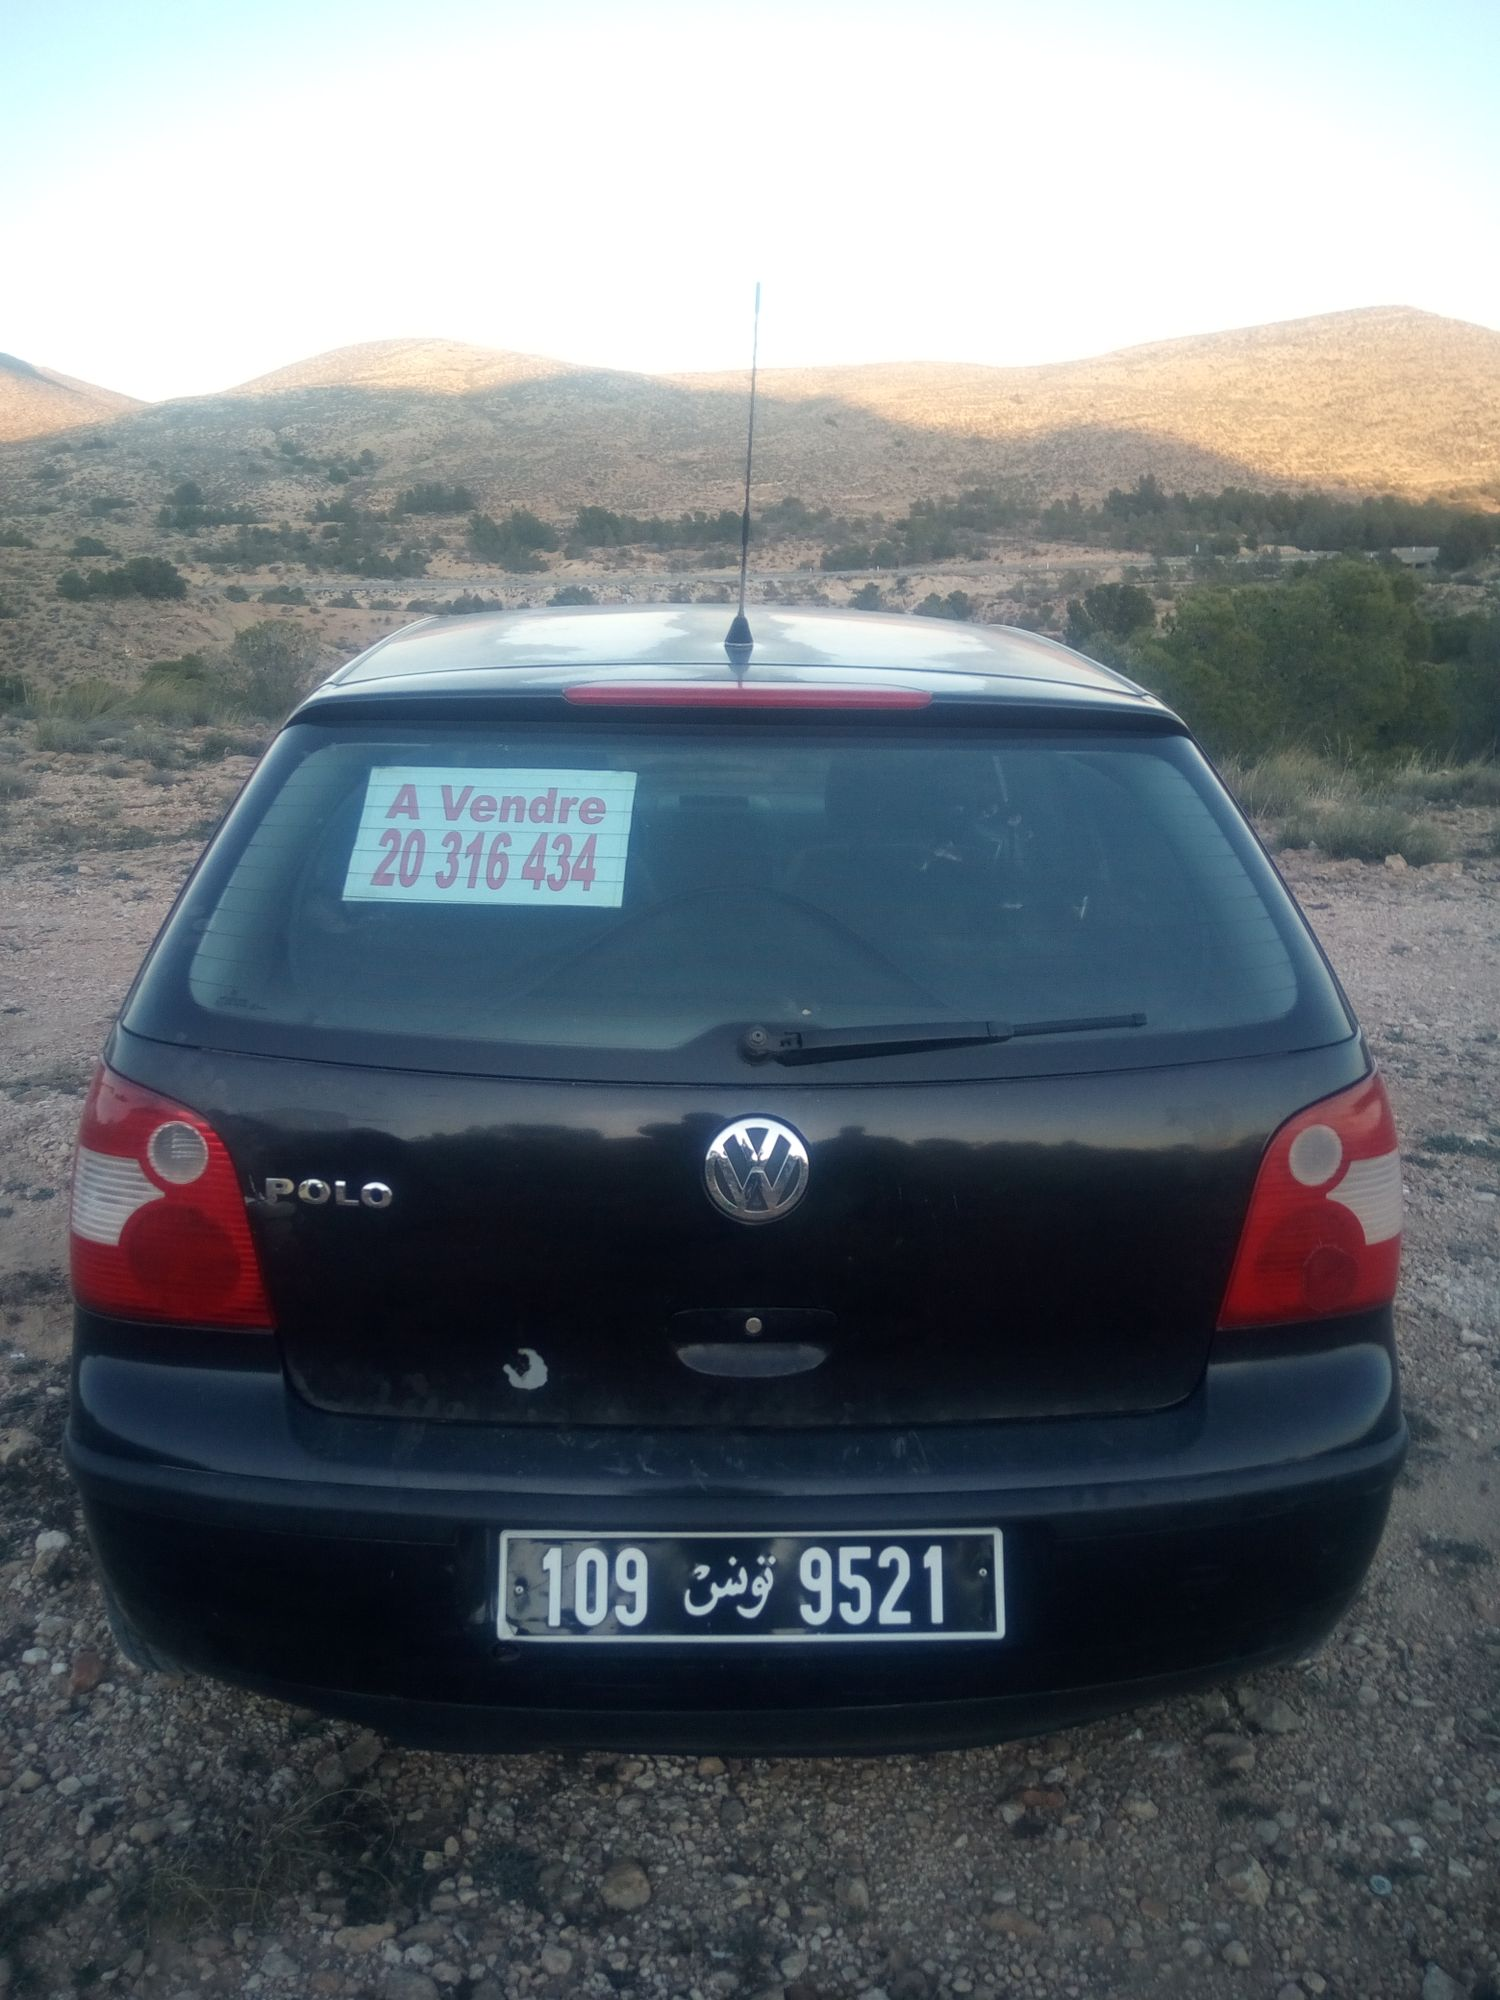LP: (493, 1522, 1005, 1646)
